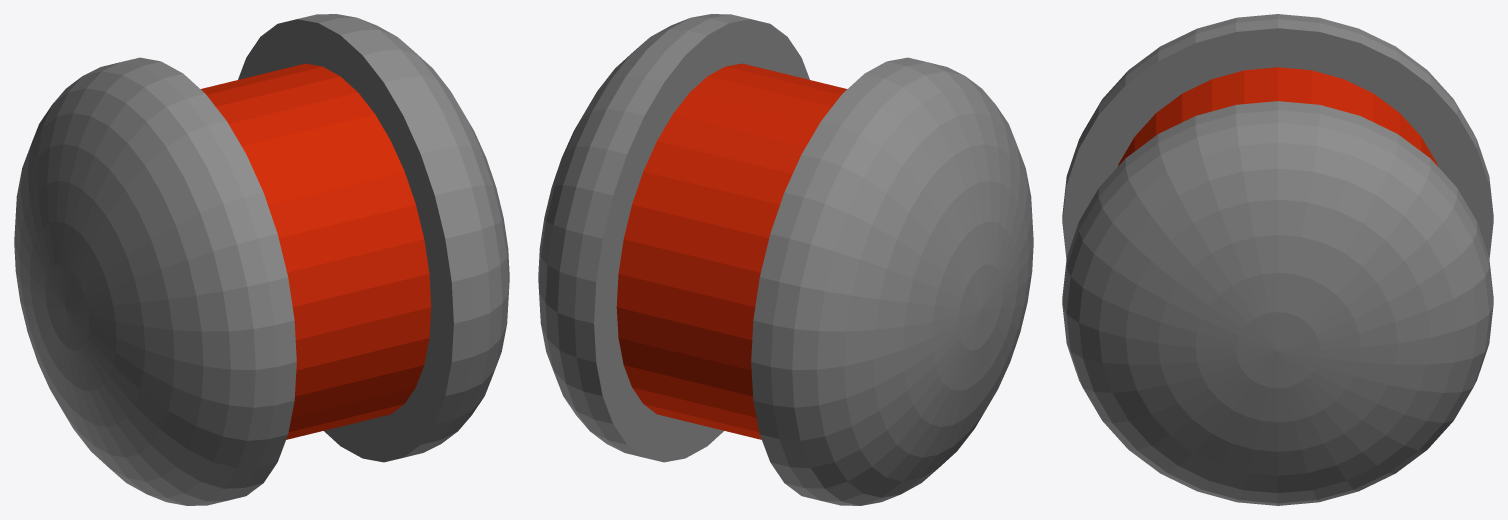
The model's file is FireMod.fbx.
3 renders of one model, left to right at view 1: azimuth 30°, elevation 25°; view 2: azimuth 150°, elevation 25°; view 3: azimuth 270°, elevation 25°, orthographic. The views are drawn at different scales.
Visible parts, largest first — view 1: Sphere.003; view 2: Sphere.003; view 3: Sphere.003.
Part boxes in pixels (x1,y1,x2,y2): Sphere.003: (14, 14, 509, 505); Sphere.003: (538, 14, 1033, 505); Sphere.003: (1062, 14, 1493, 505).
Bounding box in the file's own units: 20 × 20 × 20.
